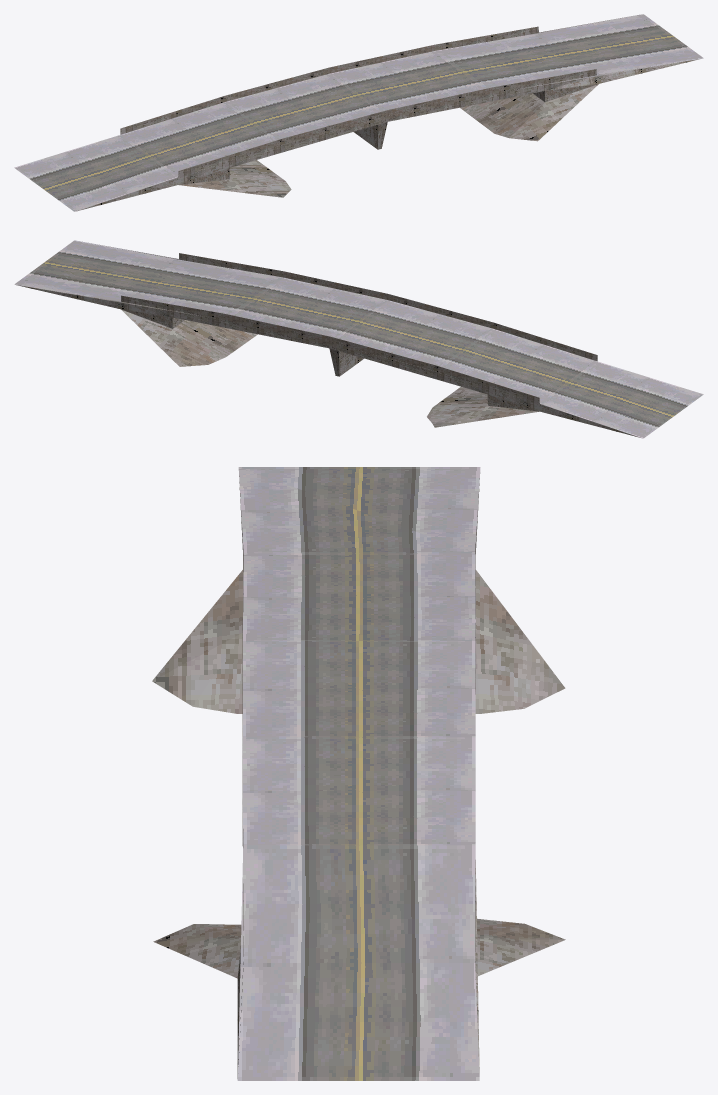
File: lodasnedge02.obj
3 views of the same model, one above another, from view 1: azimuth 30°, elevation 25°; view 2: azimuth 150°, elevation 25°; view 3: azimuth 270°, elevation 25° (orthographic). The views are drawn at different scales.
Parts seen in each view (by area): view 1: lodasNedge02; view 2: lodasNedge02; view 3: lodasNedge02.
Part boxes in pixels (left/top/right/bottom): lodasNedge02: left=14, top=14, right=703, bottom=211; lodasNedge02: left=14, top=240, right=703, bottom=438; lodasNedge02: left=152, top=467, right=565, bottom=1080.
Size of the model in its own units: 120 by 8.85 by 34.23.
Materials: 2 (2 with a texture image).
